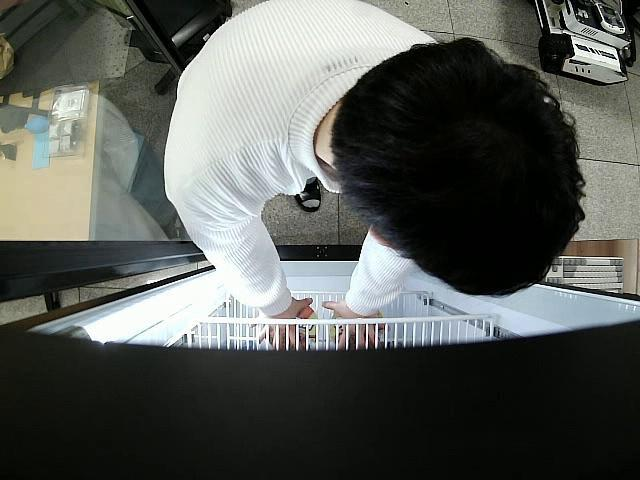03_chapagetti_L: (262, 307, 322, 348), (330, 308, 388, 348)
